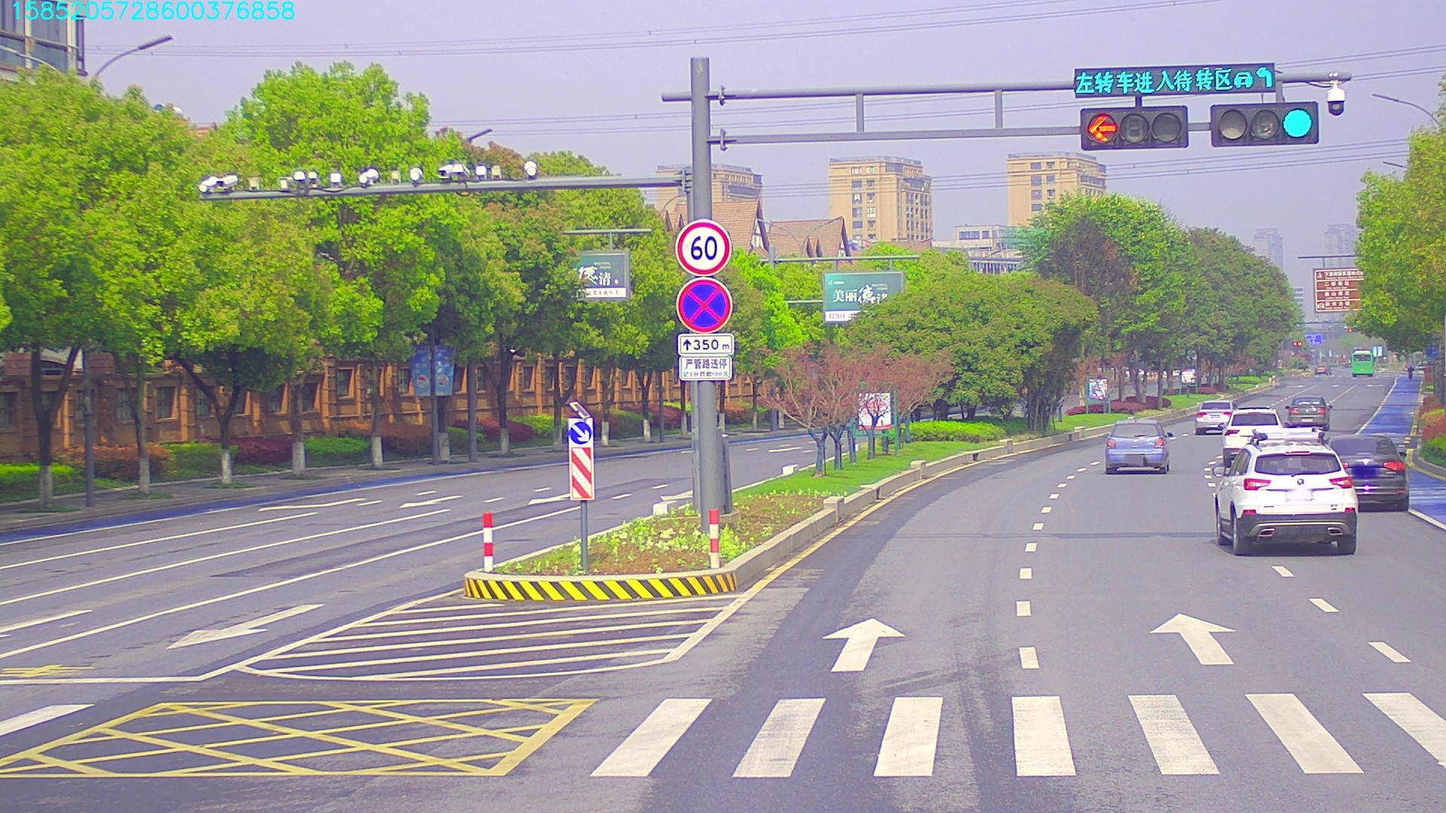green: (1204, 109, 1325, 154)
red: (1075, 115, 1188, 154)
wait_on: (1081, 66, 1289, 99)
